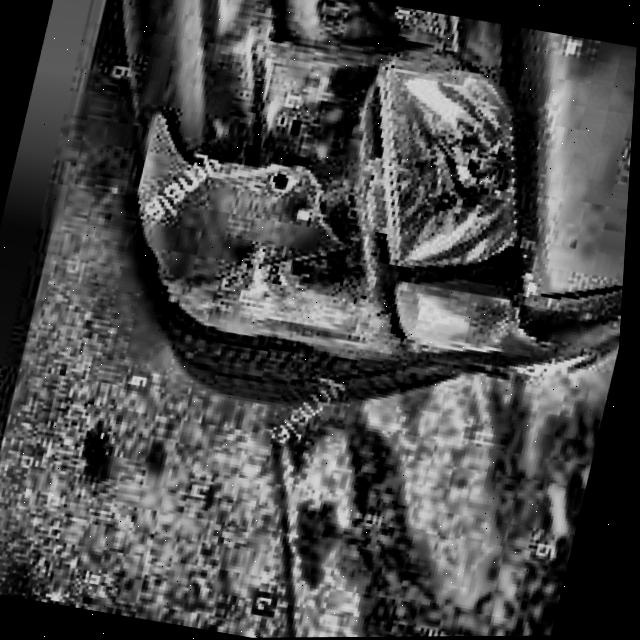head_lamp: (315, 66, 594, 368)
